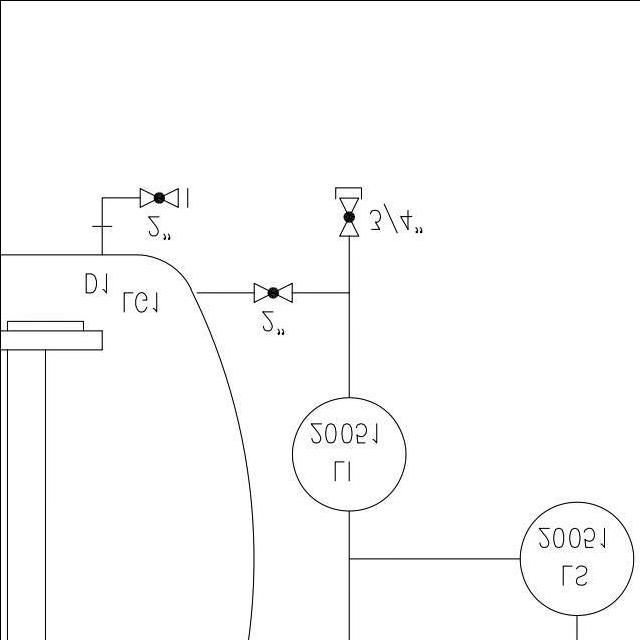BV2: (134, 184, 180, 212), (335, 191, 360, 241), (250, 280, 295, 304)
EC: (330, 182, 367, 256)
